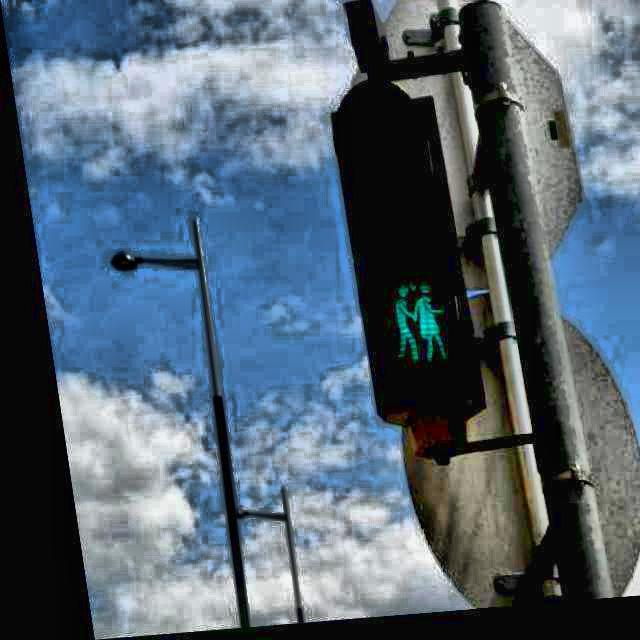semaforo pedestre: (293, 53, 523, 466)
